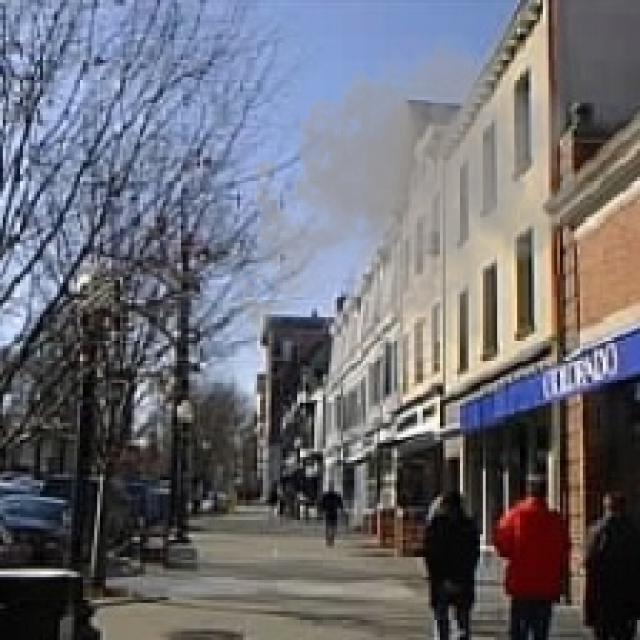smoke: (229, 20, 600, 403)
